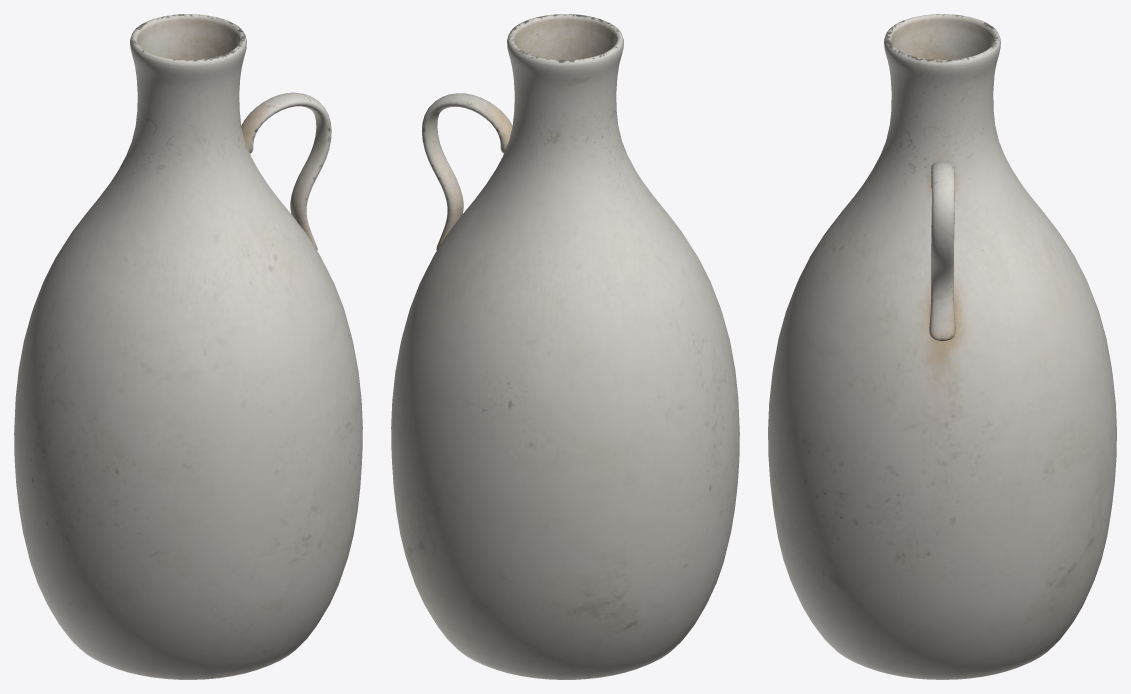
File: ceramic_vase_04.glb
3 views of the same model, side by side, from view 1: azimuth 30°, elevation 25°; view 2: azimuth 150°, elevation 25°; view 3: azimuth 270°, elevation 25° (orthographic).
Parts seen in each view (by area): view 1: ceramic_vase_04; view 2: ceramic_vase_04; view 3: ceramic_vase_04.
Part boxes in pixels (bbox=[...]): ceramic_vase_04: bbox=[14, 14, 362, 679]; ceramic_vase_04: bbox=[391, 14, 739, 679]; ceramic_vase_04: bbox=[768, 14, 1116, 679].
Size of the model in its own units: 0.1811 by 0.3419 by 0.1811.
1 material, 1 textured.
